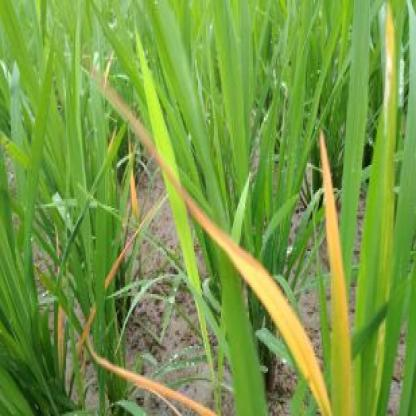Tungro: (314, 129, 361, 416)
